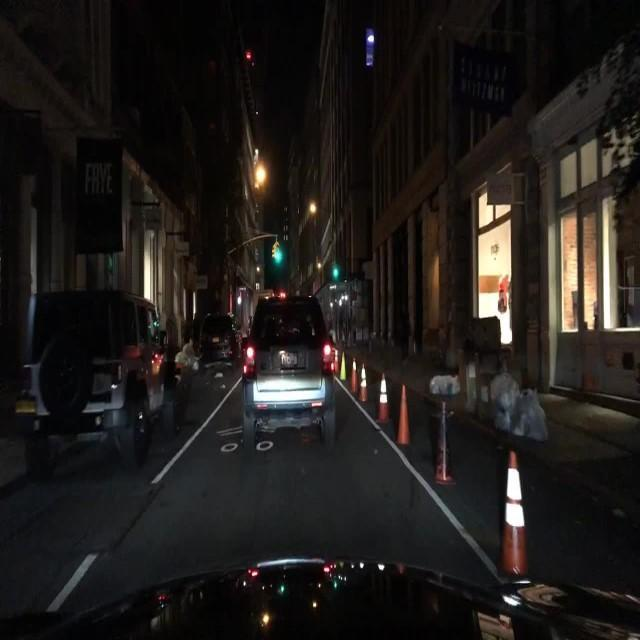normal: (209, 273, 361, 449)
